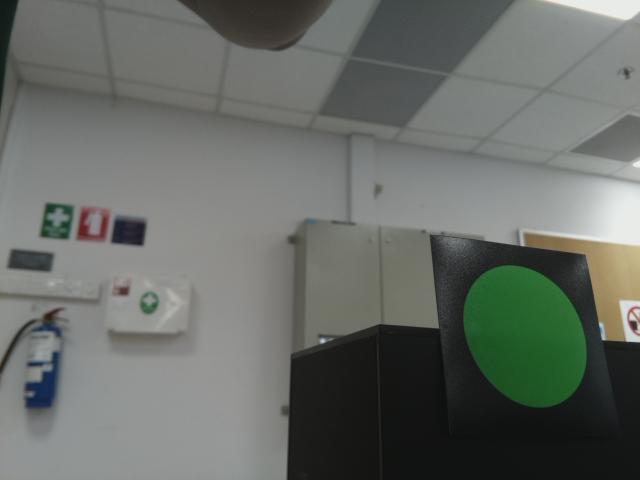go: (454, 254, 594, 407)
